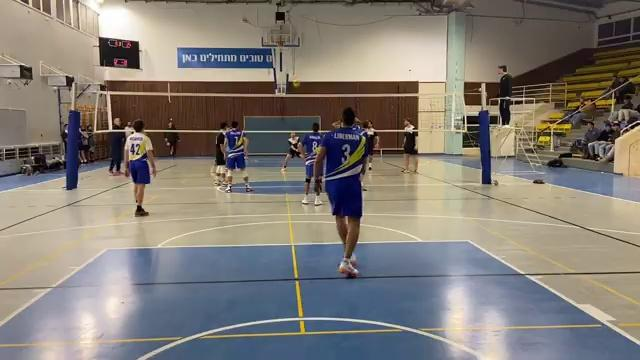ball: (291, 79, 302, 90)
